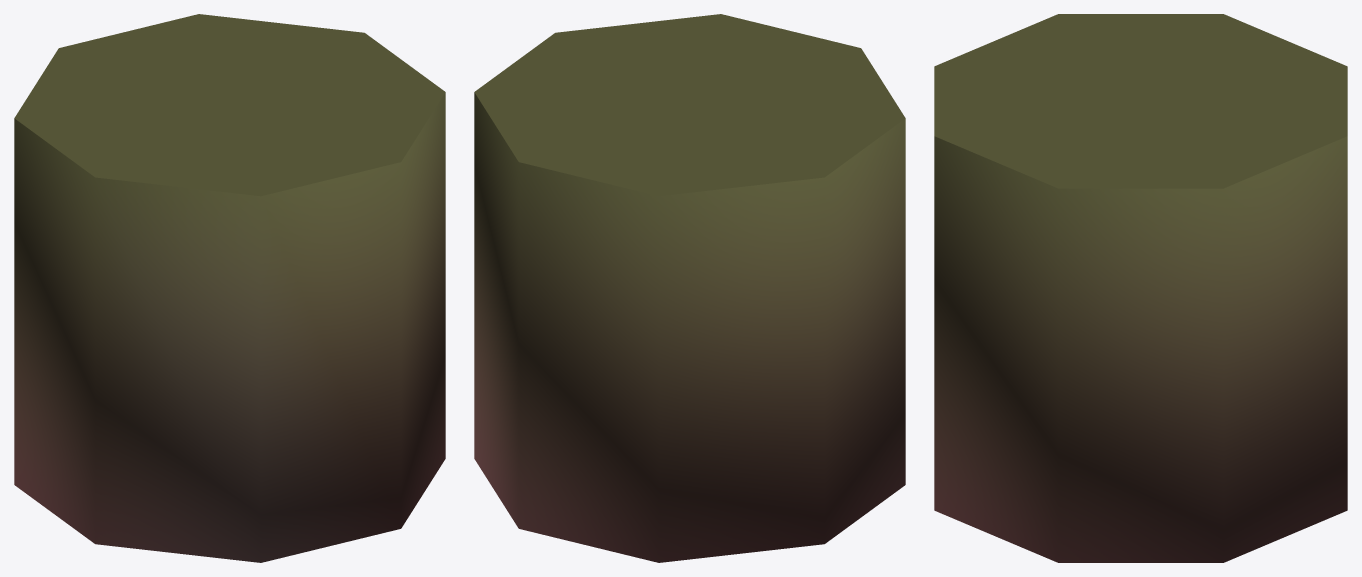
3 views of the same model, side by side, from view 1: azimuth 30°, elevation 25°; view 2: azimuth 150°, elevation 25°; view 3: azimuth 270°, elevation 25° (orthographic). The views are drawn at different scales.
Parts seen in each view (by area): view 1: cylinder; view 2: cylinder; view 3: cylinder.
Part boxes in pixels (x1,y1,x2,y2): cylinder: (14,14,445,562); cylinder: (474,14,905,562); cylinder: (934,14,1347,562).
Bounding box in the file's own units: 1 × 1 × 1.
